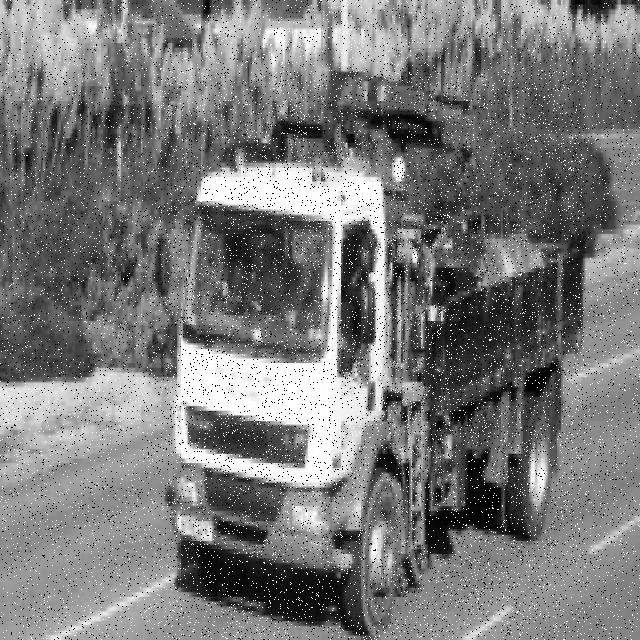Box Truck: (167, 71, 587, 640)
